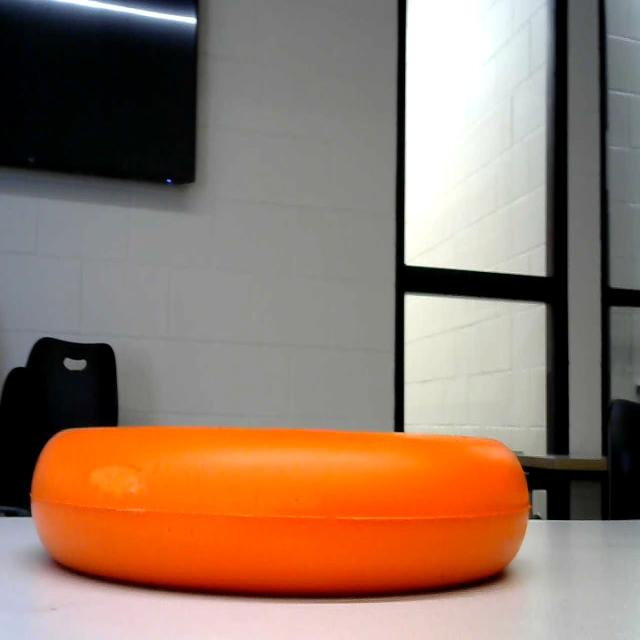note: (26, 414, 546, 596)
